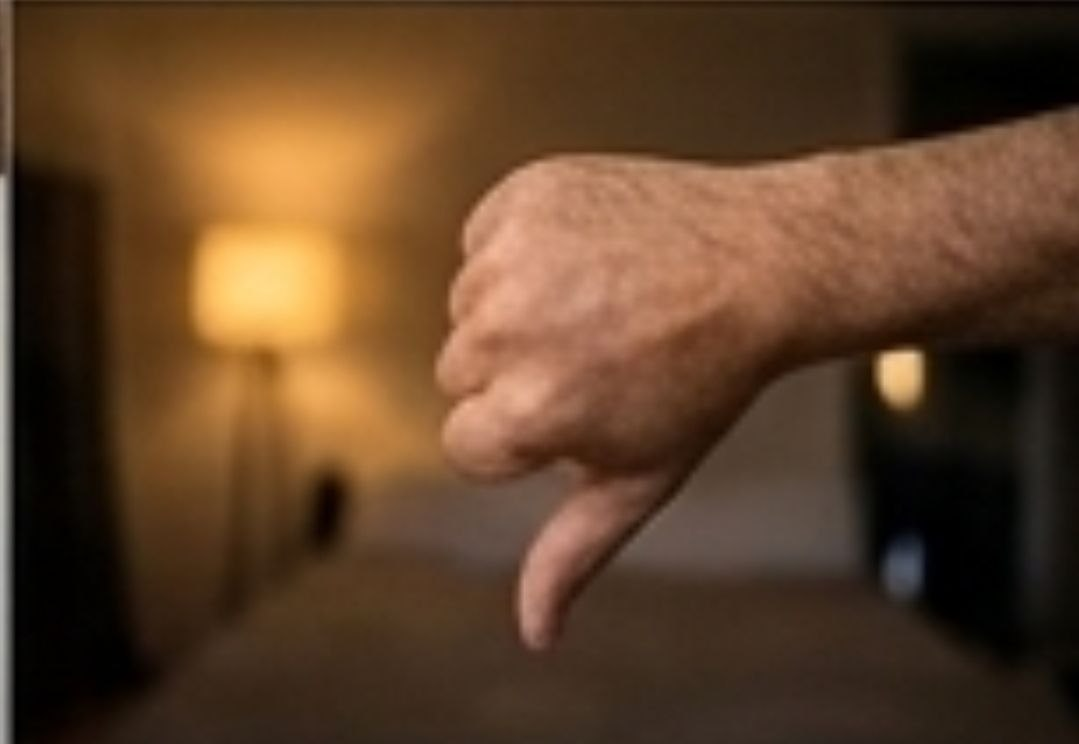Thumbs down: (423, 126, 768, 675)
